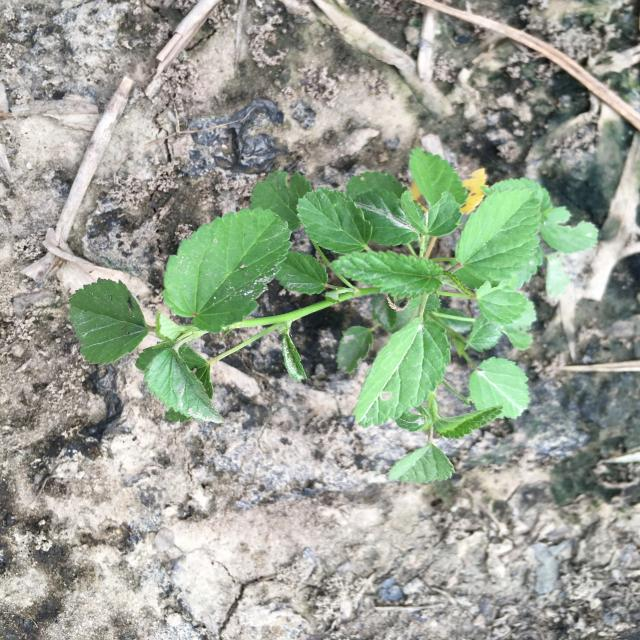PricklySida: (68, 146, 599, 485)
